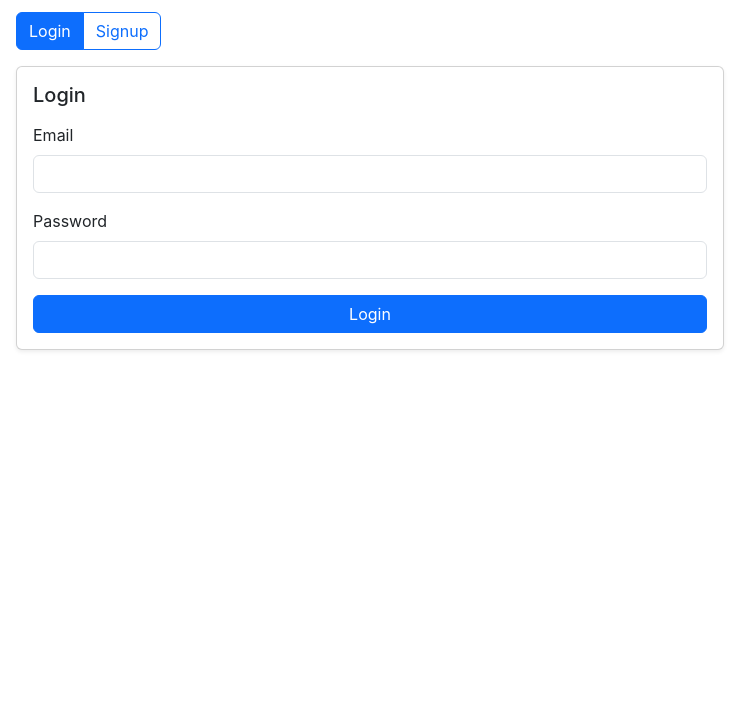
Test case: AuthPage › renders signup form when signup tab is selected
Click the button "Signup": [122, 31] box 83,12 -> 162,50
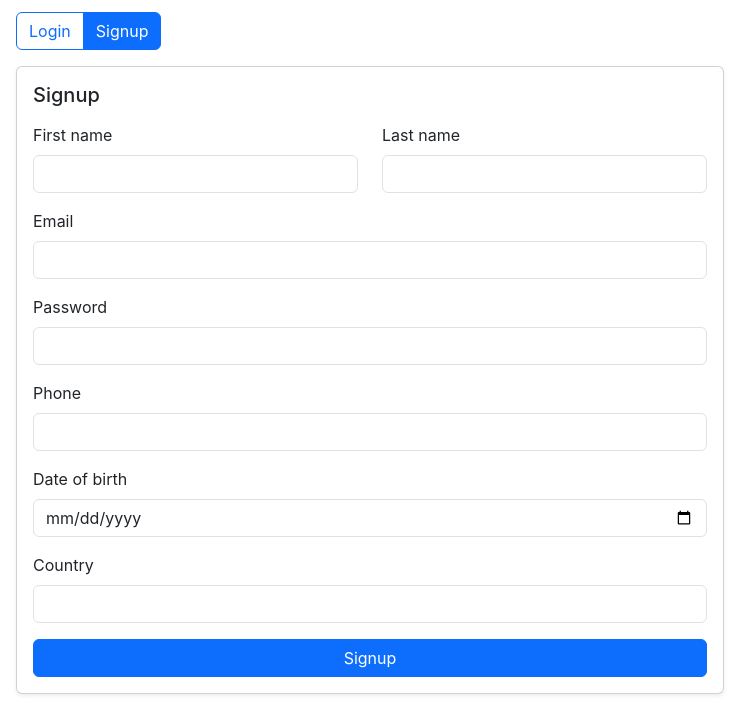
Check: the field named "email" below "Email" is shown, box 33,241 -> 707,279
Check: the field named "fname" below "First name" is shown, box 33,155 -> 358,193
Check: the field named "lname" below "Last name" is shown, box 382,155 -> 707,193
